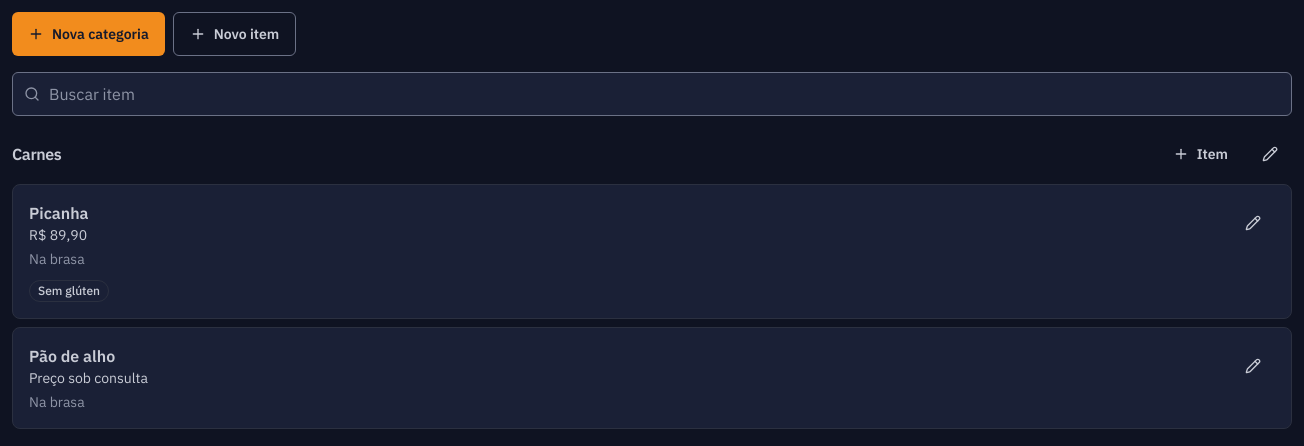
Test case: Cardapio (itens) › mostra preço formatado, etiqueta e busca por outro nome sem acento
Expected: the text "R$ 89,90" is shown, [29,226,87,244]
Expected: the text "Preço sob consulta" is shown, [29,369,148,387]
Type "PÃO" into the search field labelled "Buscar item". click: point(652, 94)
box: [12,72,1292,116]
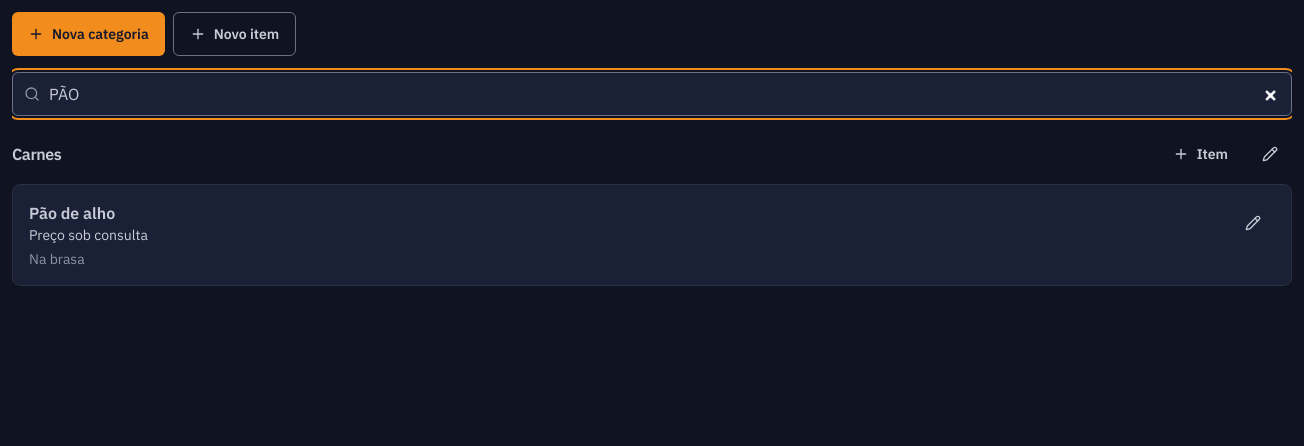
Expected: the text "Pão de alho" is shown, [29,203,115,223]
Now the text "Picanha" is gone
Replace the text in the search field with "pica". click: point(652, 94)
box: [12,72,1292,116]
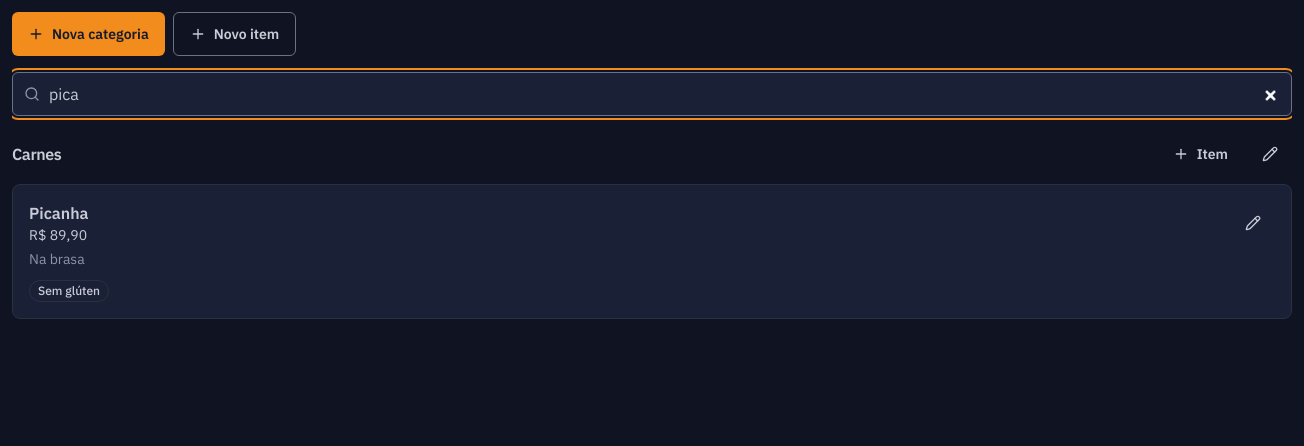
Now the text "Picanha" is shown, box [29,203,89,223]
Replace the text in the search field with "zzz". click: point(652, 94)
box: [12,72,1292,116]
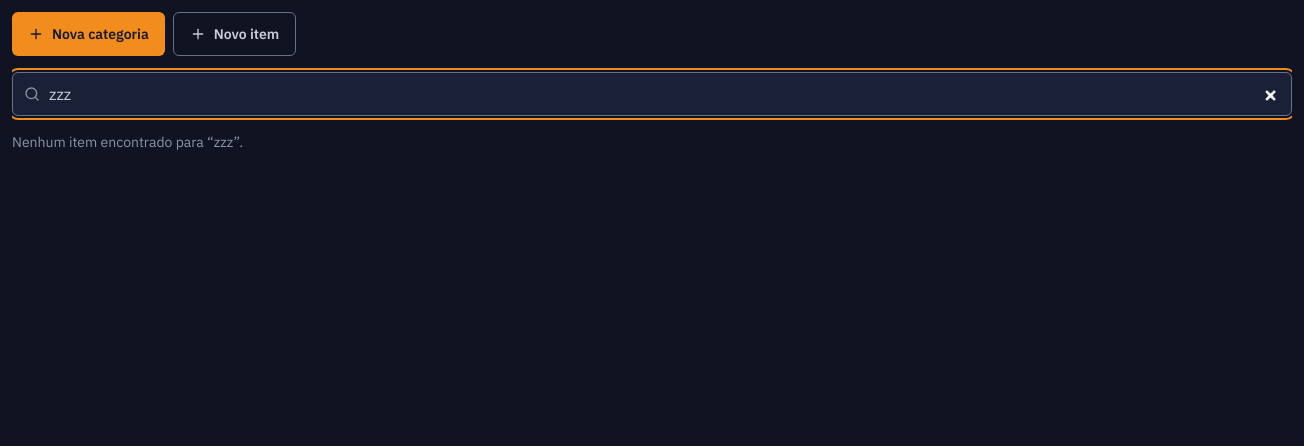
Now the message shows "Nenhum item encontrado", box [12,133,214,151]
